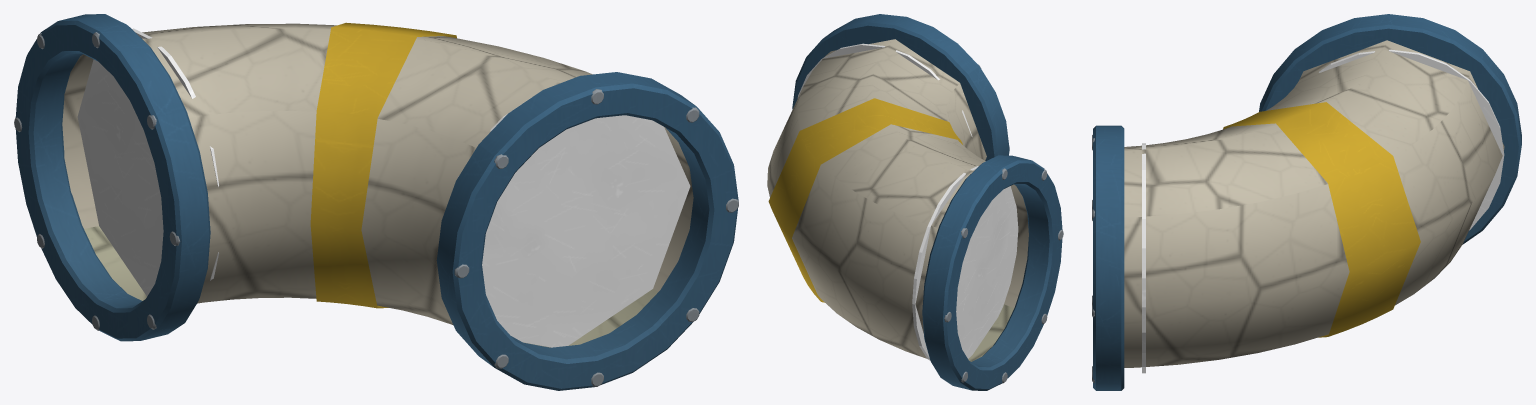
Rendered from large_pipe_corner.glb.
The picture shows the model from 3 angles, left to right: view 1: azimuth 30°, elevation 25°; view 2: azimuth 150°, elevation 25°; view 3: azimuth 270°, elevation 25°; orthographic projection. The views are drawn at different scales.
Visible parts, largest first — view 1: large_pipe_corner; view 2: large_pipe_corner; view 3: large_pipe_corner.
Boxes of the visible parts, bbox=[...] form: large_pipe_corner: bbox=[14, 14, 738, 390]; large_pipe_corner: bbox=[767, 14, 1063, 390]; large_pipe_corner: bbox=[1092, 14, 1521, 390].
Size of the model in its own units: 2.2 by 1.36 by 2.2.
5 materials, 5 textured.
